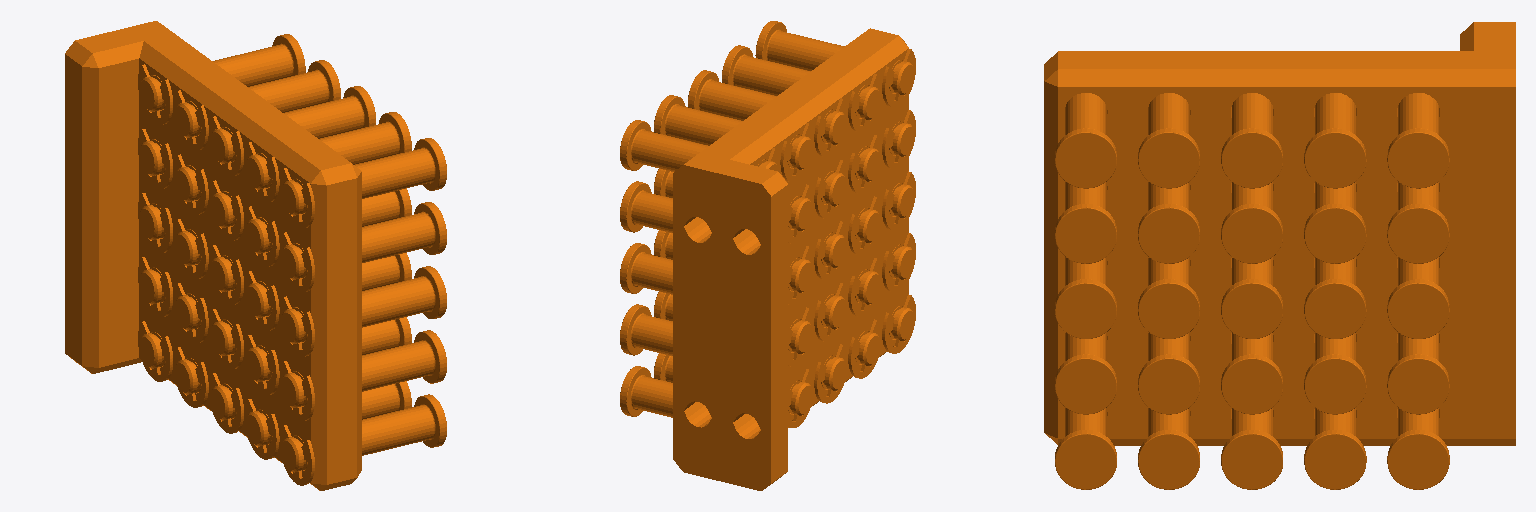
robot.urdf — gripper_left:
<?xml version="1.0"?>
<robot name="gripper_left">

  <link name="gripper_left_link">
    <visual>
      <origin xyz="0 0 0" rpy="0 0 0"/>
      <geometry>
        <mesh filename="gripper_left_urdf.stl" scale="0.001 0.001 0.001"/>
      </geometry>
      <material name="orange">
        <color rgba="0.9 0.5 0.1 1.0"/>
      </material>
    </visual>
    <collision>
      <origin xyz="0 0 0" rpy="0 0 0"/>
      <geometry>
        <mesh filename="gripper_left_urdf.stl" scale="0.001 0.001 0.001"/>
      </geometry>
    </collision>
  </link>

</robot>

--- What the picture shows (computed from the rendered views, not written in the file) ---
Views: 3 orthographic renders of the robot side by side, from view 1: azimuth 30°, elevation 25°; view 2: azimuth 150°, elevation 25°; view 3: azimuth 270°, elevation 25°.
Robot: gripper_left — 1 links, 0 joints (none); root link gripper_left_link; default pose: all joints at 0.
Visible links, largest first — view 1: gripper_left_link; view 2: gripper_left_link; view 3: gripper_left_link.
Boxes of the visible links, x1=… form: gripper_left_link: x1=65, y1=21, x2=446, y2=490; gripper_left_link: x1=620, y1=21, x2=915, y2=490; gripper_left_link: x1=1044, y1=22, x2=1515, y2=489.
Bounding box of the posed robot: 0.0365 × 0.068 × 0.06 m (x, y, z).
Meshes: 1 distinct files referenced, 1 mesh visuals loaded (1 binary STL).
